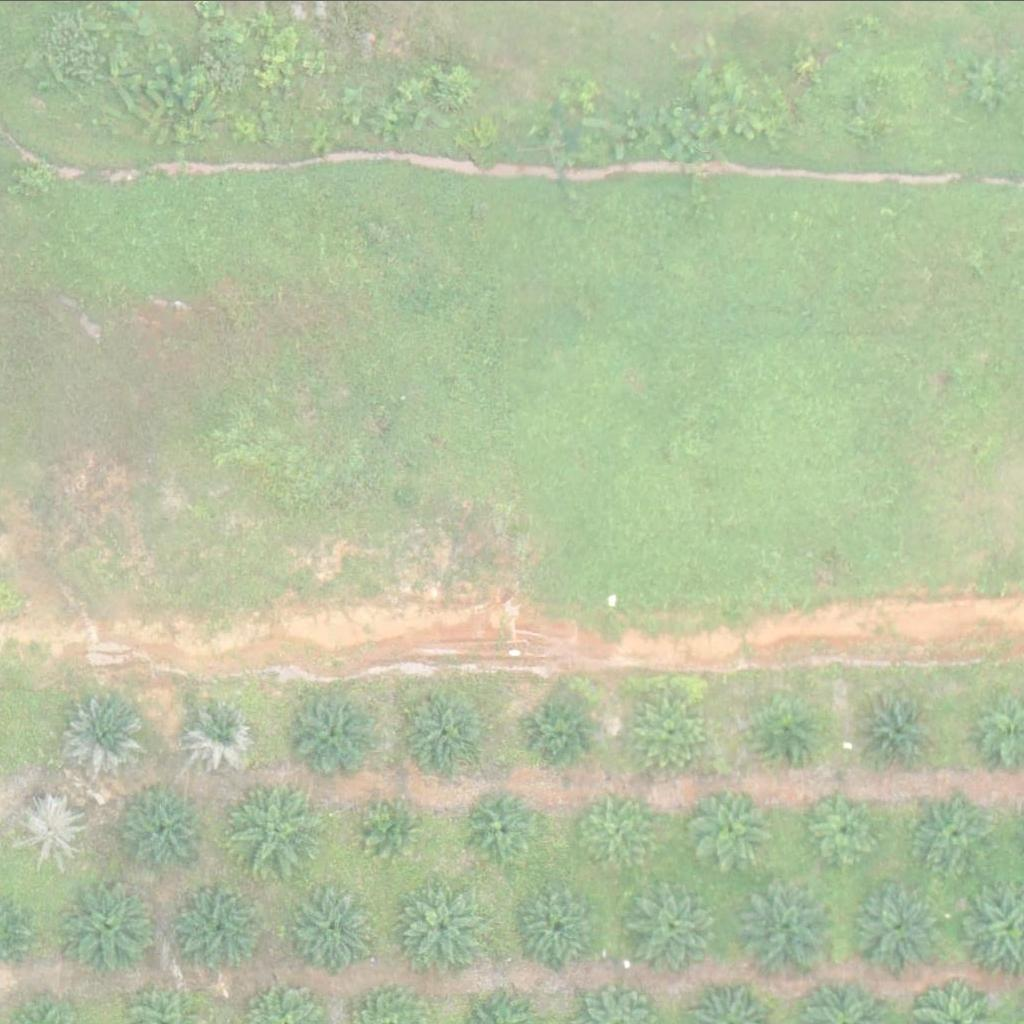Kelapa_Sawit: (739, 881, 840, 981), (60, 874, 160, 974), (114, 775, 214, 875), (228, 775, 328, 875), (517, 878, 606, 966), (62, 691, 150, 779), (292, 689, 380, 777), (403, 688, 491, 776), (912, 785, 1000, 873), (631, 883, 719, 971), (856, 884, 944, 972), (684, 788, 772, 875), (856, 685, 944, 772), (177, 882, 265, 969), (293, 883, 381, 970), (403, 882, 491, 969), (13, 793, 89, 868), (183, 692, 259, 767), (468, 787, 543, 862), (810, 789, 885, 864), (631, 697, 706, 772), (523, 690, 598, 765), (579, 795, 654, 870), (754, 704, 817, 767), (363, 797, 426, 860)
